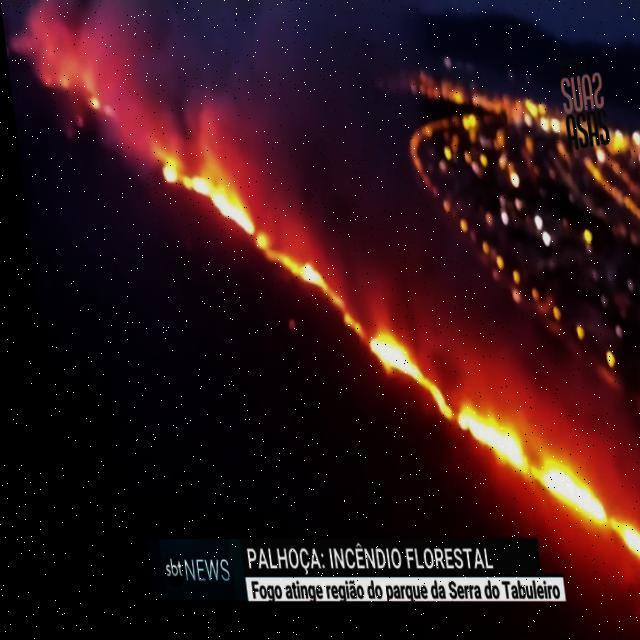Fire: (154, 151, 639, 626)
